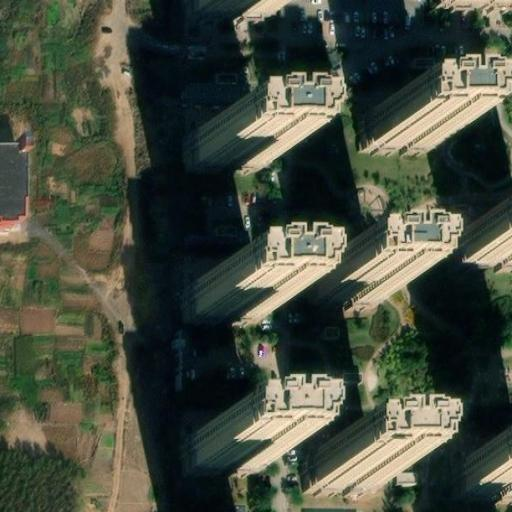building: (367, 108, 448, 150), (313, 262, 394, 304), (194, 275, 275, 317), (193, 426, 274, 468), (194, 126, 274, 168), (309, 447, 389, 489), (447, 466, 512, 507), (449, 232, 512, 273)
